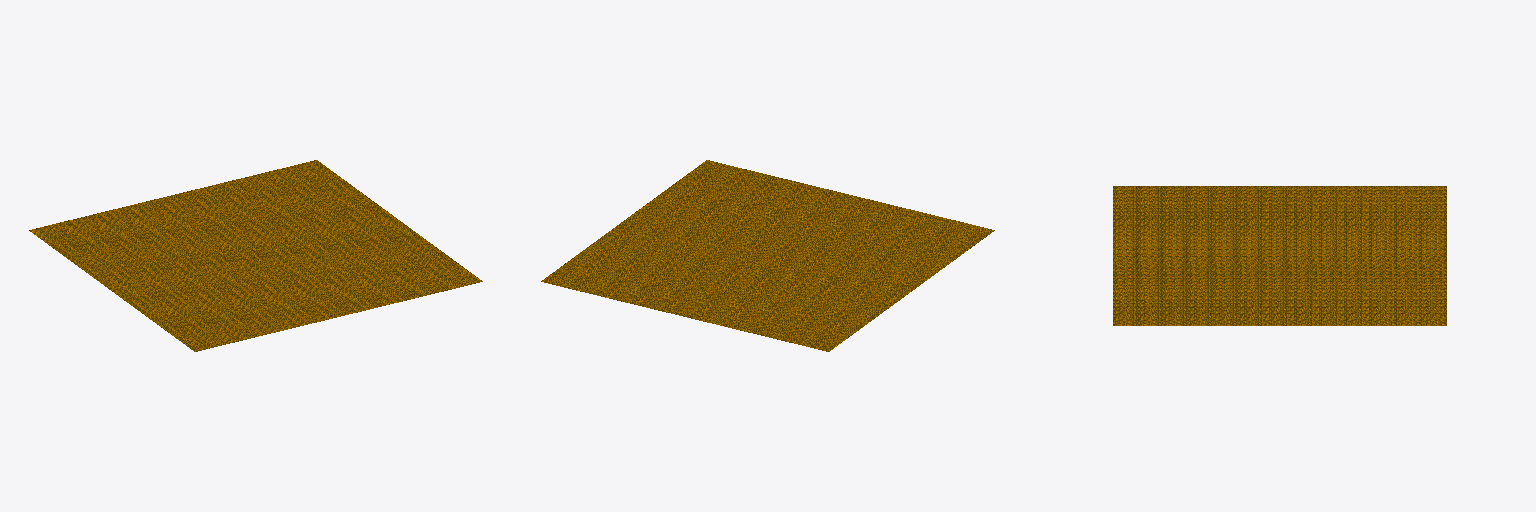
The picture shows the model from 3 angles: view 1: azimuth 30°, elevation 25°; view 2: azimuth 150°, elevation 25°; view 3: azimuth 270°, elevation 25°; orthographic projection.
Parts seen in each view (by area): view 1: Plane; view 2: Plane; view 3: Plane.
Part boxes in pixels (x1,y1,x2,y2): Plane: (29,160,482,351); Plane: (541,160,994,351); Plane: (1113,186,1446,325).
Size of the model in its own units: 1000 by 0.0001 by 1000.
1 materials, 1 textured.